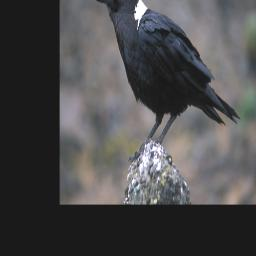Crow: (92, 0, 241, 166)
